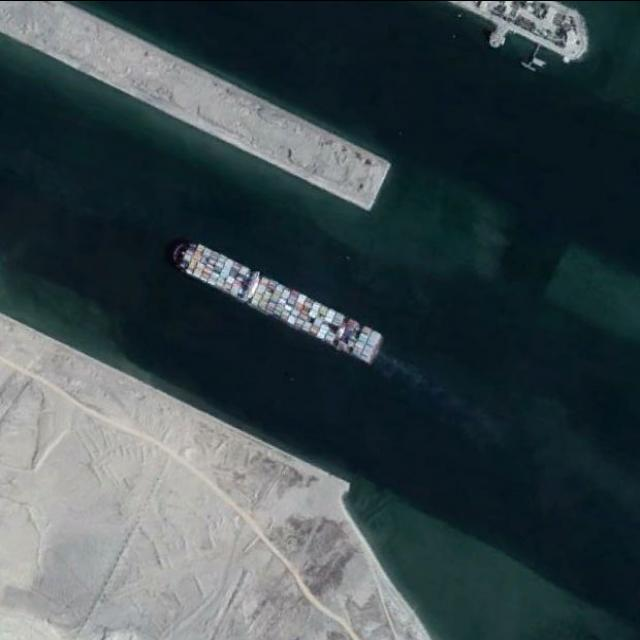ship: (171, 234, 385, 364)
